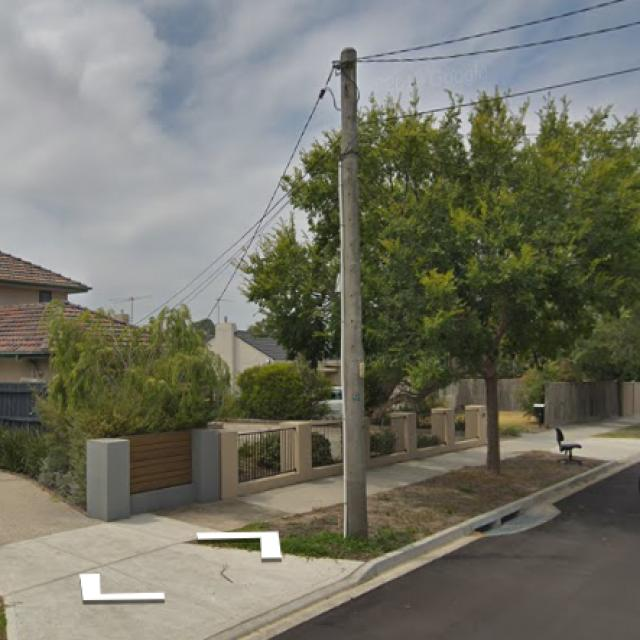timber-pole: (338, 48, 366, 540)
